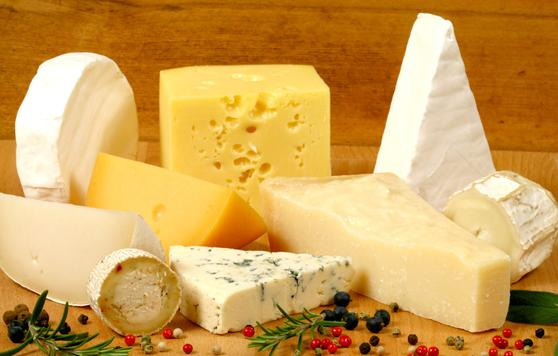cheese: (154, 59, 337, 186), (80, 144, 275, 257)
